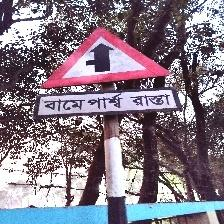Side-road-left: (35, 25, 180, 120)
